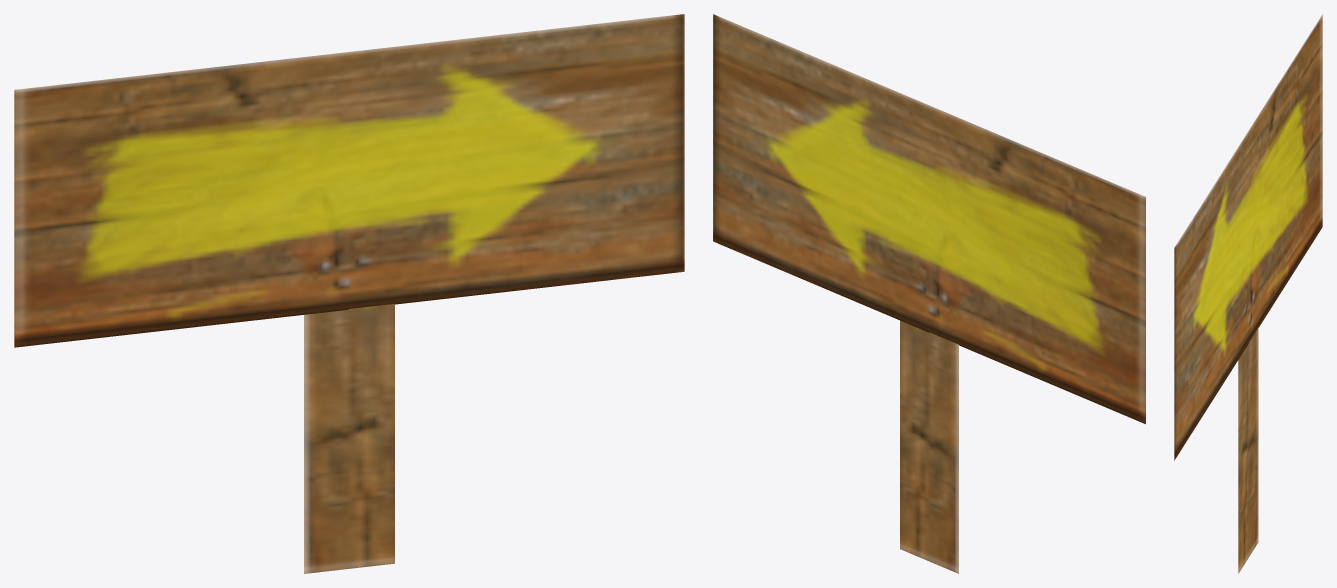
File: rightway08.glb
3 views of the same model, side by side, from view 1: azimuth 30°, elevation 25°; view 2: azimuth 150°, elevation 25°; view 3: azimuth 270°, elevation 25° (orthographic). The views are drawn at different scales.
Visible parts, largest first — view 1: rightway08; view 2: rightway08; view 3: rightway08.
Boxes of the visible parts, box(x1,y1,x2,y2) form: rightway08: box(14, 14, 684, 573); rightway08: box(713, 14, 1145, 573); rightway08: box(1174, 14, 1322, 573).
Size of the model in its own units: 551 by 469 by 148.
1 material, 1 textured.
